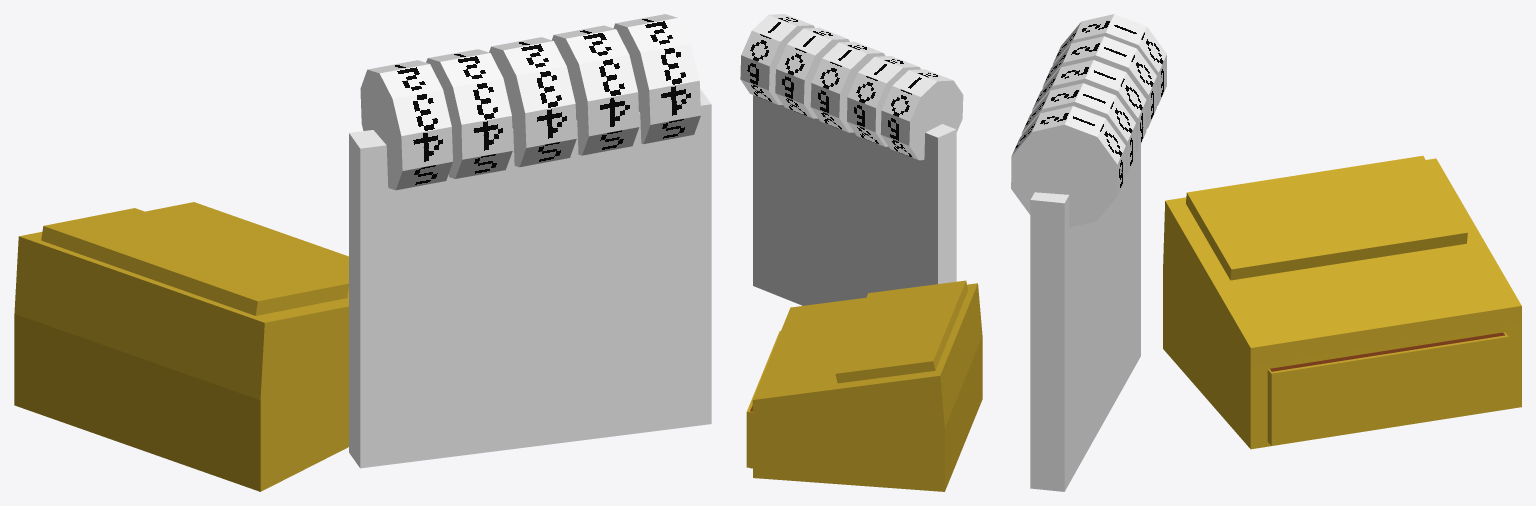
The model's file is RegisterGadgets.fbx.
The picture shows the model from 3 angles, left to right: view 1: azimuth 30°, elevation 25°; view 2: azimuth 150°, elevation 25°; view 3: azimuth 270°, elevation 25°; orthographic projection. The views are drawn at different scales.
Parts seen in each view (by area): view 1: Monitor, RegisterManager, Roller0, Roller2, Roller3, Roller4, Roller1; view 2: RegisterManager, Monitor, Roller0, Roller2, Roller3, Roller4, Roller1; view 3: RegisterManager, Monitor, Roller4, Roller1, Roller2, Roller3, Roller0, RegisterDoor.
Boxes of the visible parts, x1,y1,x2,y2 form: Monitor: (349, 88, 711, 468); RegisterManager: (14, 202, 348, 491); Roller0: (360, 60, 452, 190); Roller2: (489, 37, 576, 167); Roller3: (552, 25, 639, 155); Roller4: (613, 14, 700, 144); Roller1: (426, 49, 512, 178); RegisterManager: (746, 280, 982, 491); Monitor: (753, 95, 956, 305); Roller0: (880, 69, 963, 160); Roller2: (810, 41, 885, 132); Roller3: (775, 27, 849, 118); Roller4: (740, 14, 814, 104); Roller1: (847, 56, 920, 146); RegisterManager: (1163, 155, 1521, 449); Monitor: (1030, 144, 1140, 491); Roller4: (1011, 106, 1125, 227); Roller1: (1042, 36, 1156, 129); Roller2: (1032, 60, 1146, 152); Roller3: (1021, 83, 1135, 175); Roller0: (1052, 14, 1166, 105); RegisterDoor: (1270, 332, 1504, 371).
Size of the model in its own units: 27.88 by 23.56 by 28.39.
8 materials, 5 textured.
